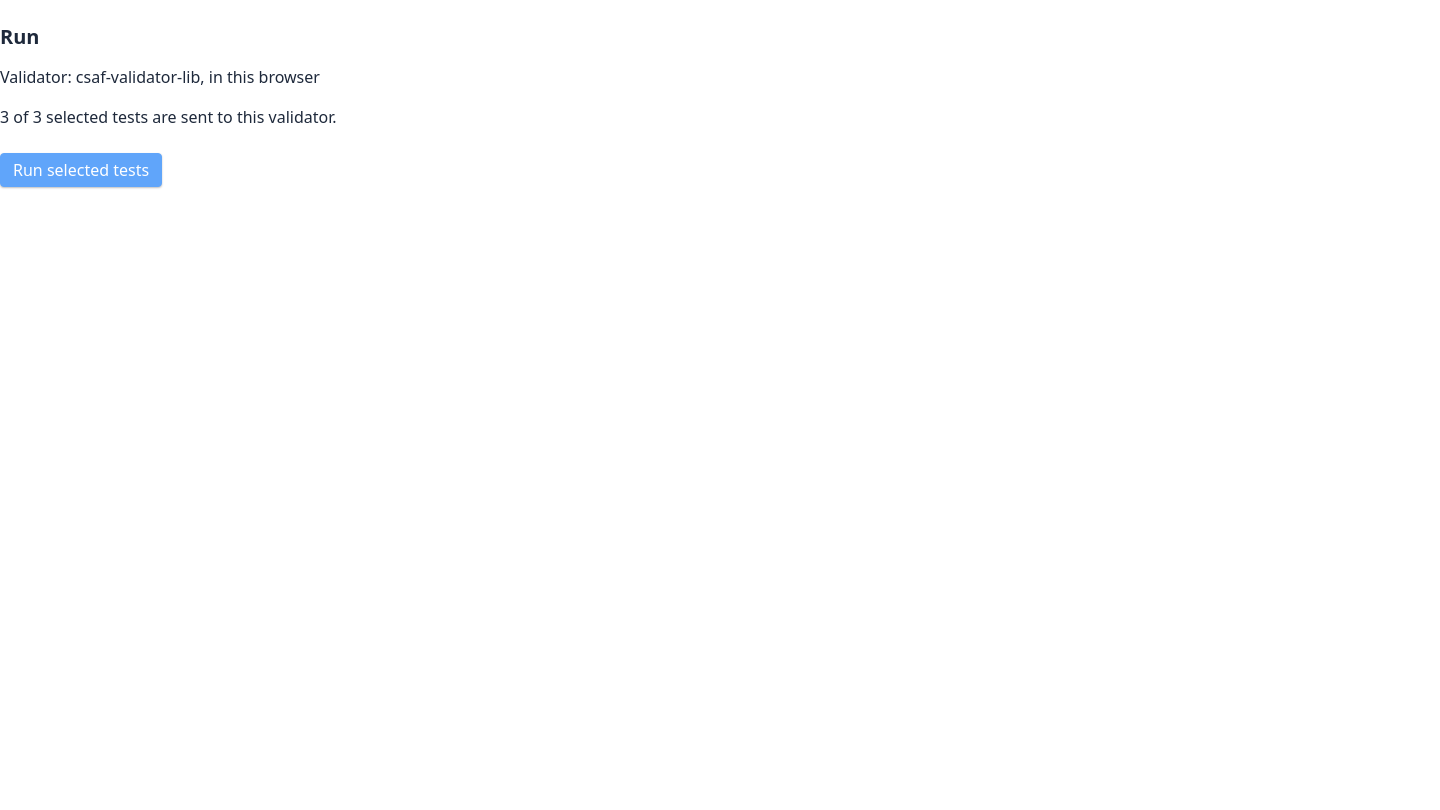
Test case: confirming network-enabled tests › lists the tests and does not start before the user confirms
The width and height of the screenshot is (1440, 810).
Click the button "Run selected tests" at (81, 170), box [0, 153, 162, 187]
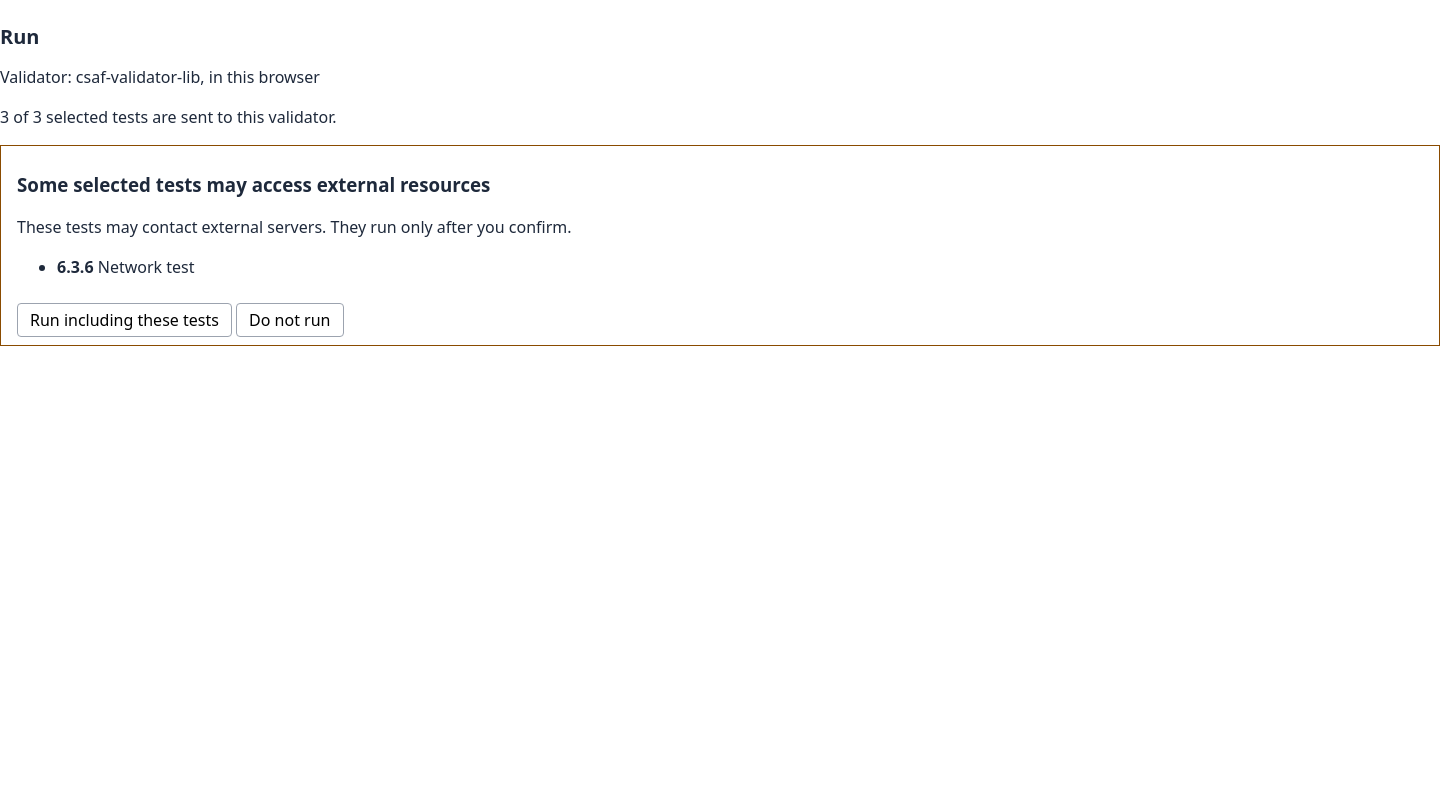
Expected: the dialog shows "may access external resources", [17, 172, 490, 197]
Expected: the dialog shows "6.3.6", [57, 256, 94, 278]
Expected: the dialog shows "Network test", [98, 256, 195, 278]
